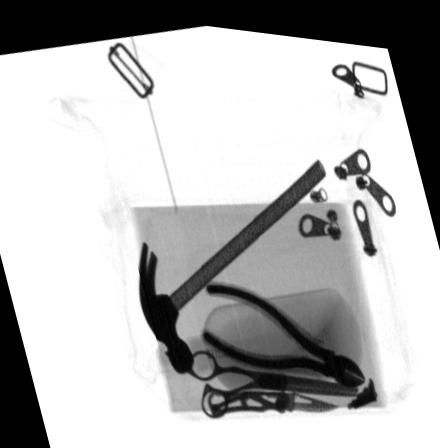Hammer: (137, 151, 328, 374)
Knife: (204, 383, 341, 413)
Pliers: (201, 278, 367, 382)
Scissors: (164, 343, 359, 416)
